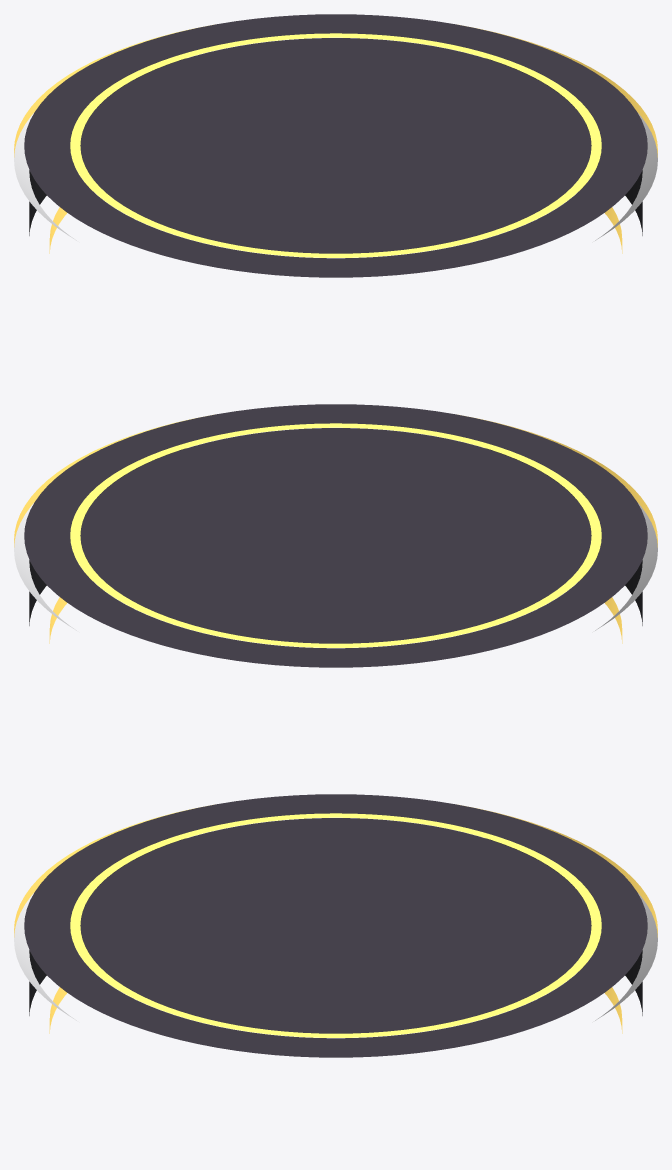
The model's file is podium_gold.glb.
The picture shows the model from 3 angles, top to bottom: view 1: azimuth 30°, elevation 25°; view 2: azimuth 150°, elevation 25°; view 3: azimuth 270°, elevation 25°; orthographic projection.
Visible parts, largest first — view 1: p8, p6, p7, p3, p4, p2; view 2: p8, p6, p7, p3, p4, p2; view 3: p8, p6, p7, p3, p4, p2.
Part boxes in pixels (x1,y1,x2,y2): p8: (80, 38, 591, 253); p6: (24, 14, 647, 277); p7: (70, 33, 601, 257); p3: (14, 37, 657, 240); p4: (14, 24, 657, 157); p2: (29, 58, 642, 235); p8: (80, 428, 591, 643); p6: (24, 404, 647, 667); p7: (70, 423, 601, 647); p3: (14, 427, 657, 630); p4: (14, 414, 657, 547); p2: (29, 448, 642, 625); p8: (80, 818, 591, 1033); p6: (24, 794, 647, 1057); p7: (70, 813, 601, 1037); p3: (14, 817, 657, 1020); p4: (14, 804, 657, 937); p2: (29, 838, 642, 1015).
Bounding box in the file's own units: 2.52 × 0.471 × 2.52.
